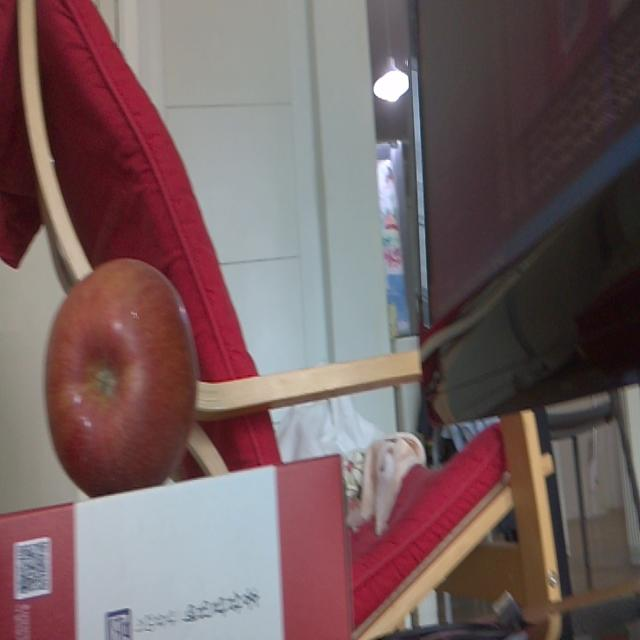apple: (45, 261, 197, 482)
